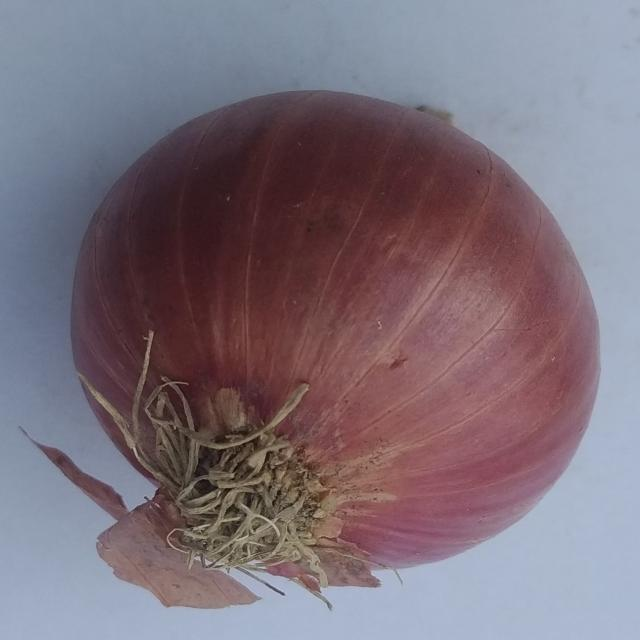onion: (19, 87, 606, 618)
